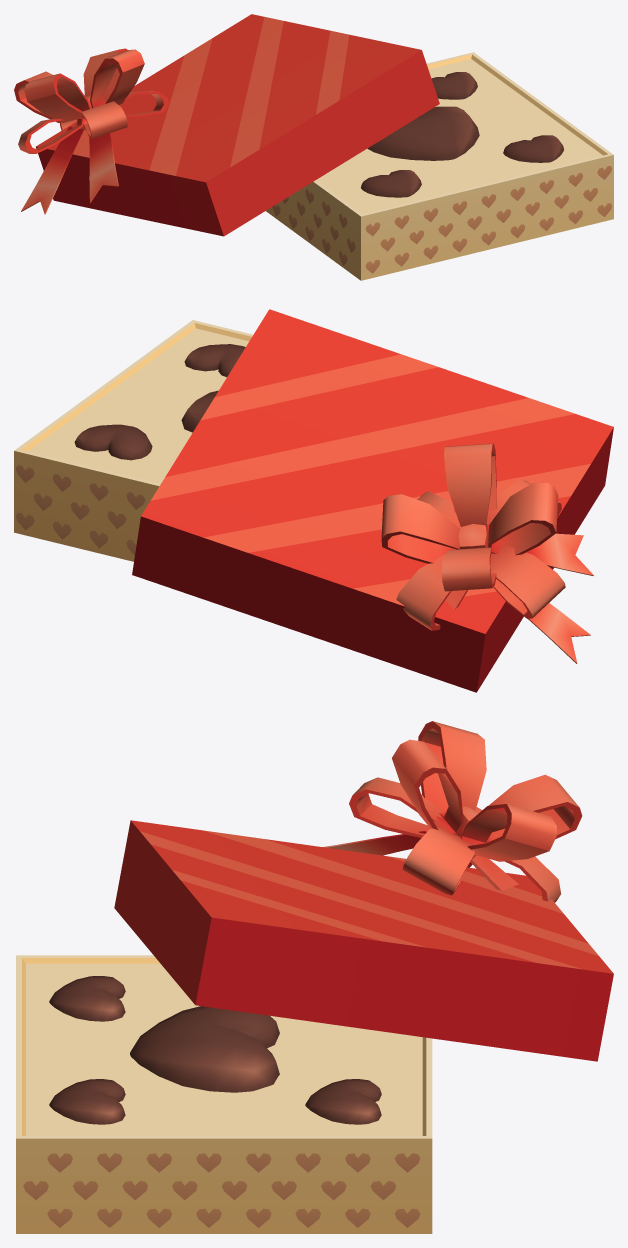
File: CRvalentines_Giftbox_001.FBX
The picture shows the model from 3 angles, top to bottom: view 1: azimuth 30°, elevation 25°; view 2: azimuth 150°, elevation 25°; view 3: azimuth 270°, elevation 25°; orthographic projection. The views are drawn at different scales.
Parts seen in each view (by area): view 1: CRvalentines_Giftbox_001; view 2: CRvalentines_Giftbox_001; view 3: CRvalentines_Giftbox_001.
Boxes of the visible parts, left/top/right/bottom form: CRvalentines_Giftbox_001: left=14, top=14, right=613, bottom=280; CRvalentines_Giftbox_001: left=14, top=309, right=613, bottom=692; CRvalentines_Giftbox_001: left=16, top=721, right=613, bottom=1233.
Size of the model in its own units: 44.33 by 15.37 by 34.55.
